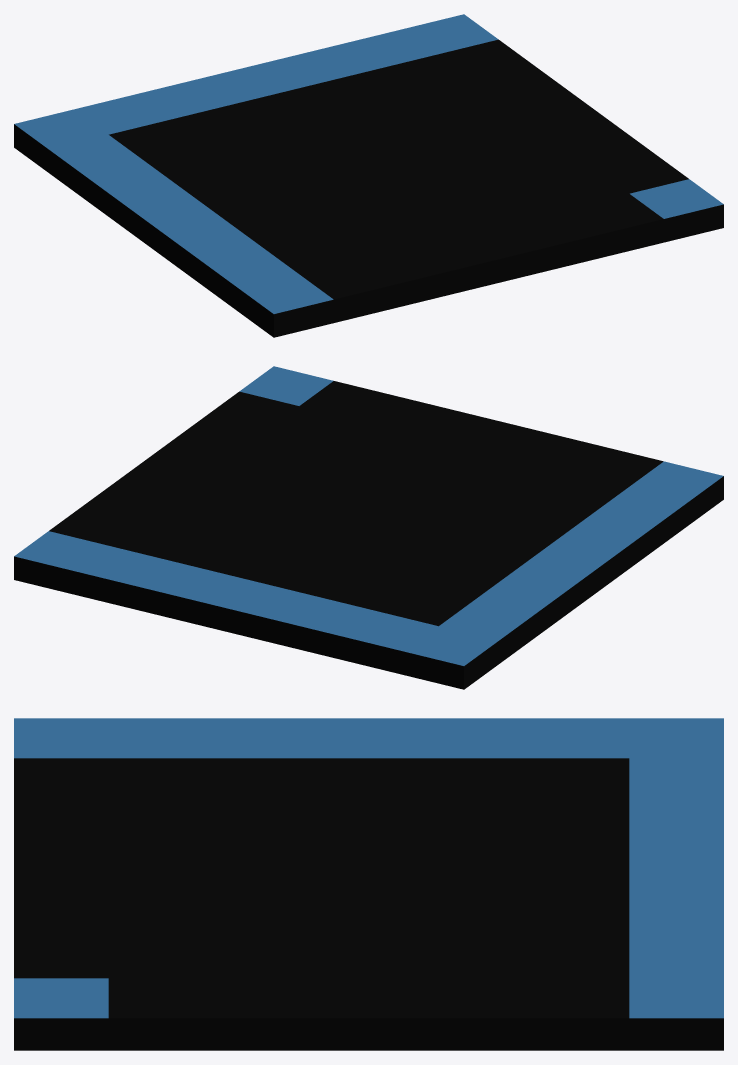
The model's file is turn_road_end.fbx.
3 views of the same model, one above another, from view 1: azimuth 30°, elevation 25°; view 2: azimuth 150°, elevation 25°; view 3: azimuth 270°, elevation 25° (orthographic). The views are drawn at different scales.
Visible parts, largest first — view 1: Cube.001; view 2: Cube.001; view 3: Cube.001.
Boxes of the visible parts, x1,y1,x2,y2 form: Cube.001: [14, 14, 723, 337]; Cube.001: [14, 366, 723, 689]; Cube.001: [14, 718, 723, 1050].
Bounding box in the file's own units: 200 × 10 × 200.
